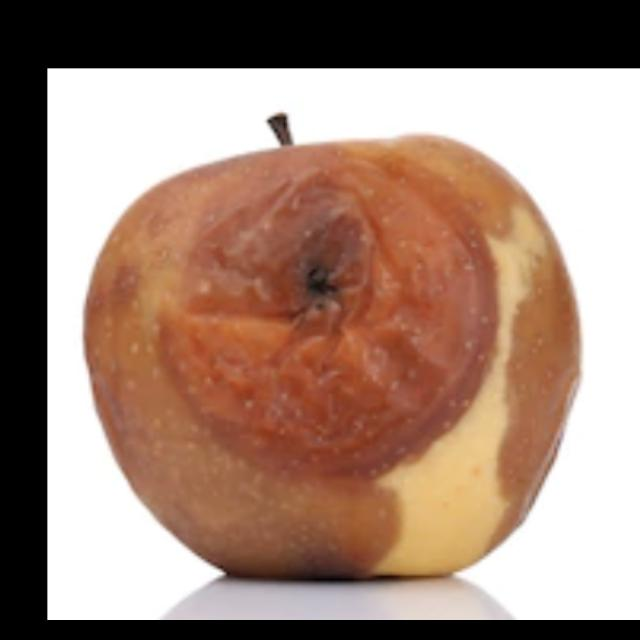Apel Tidak Segar: (50, 87, 620, 618)
